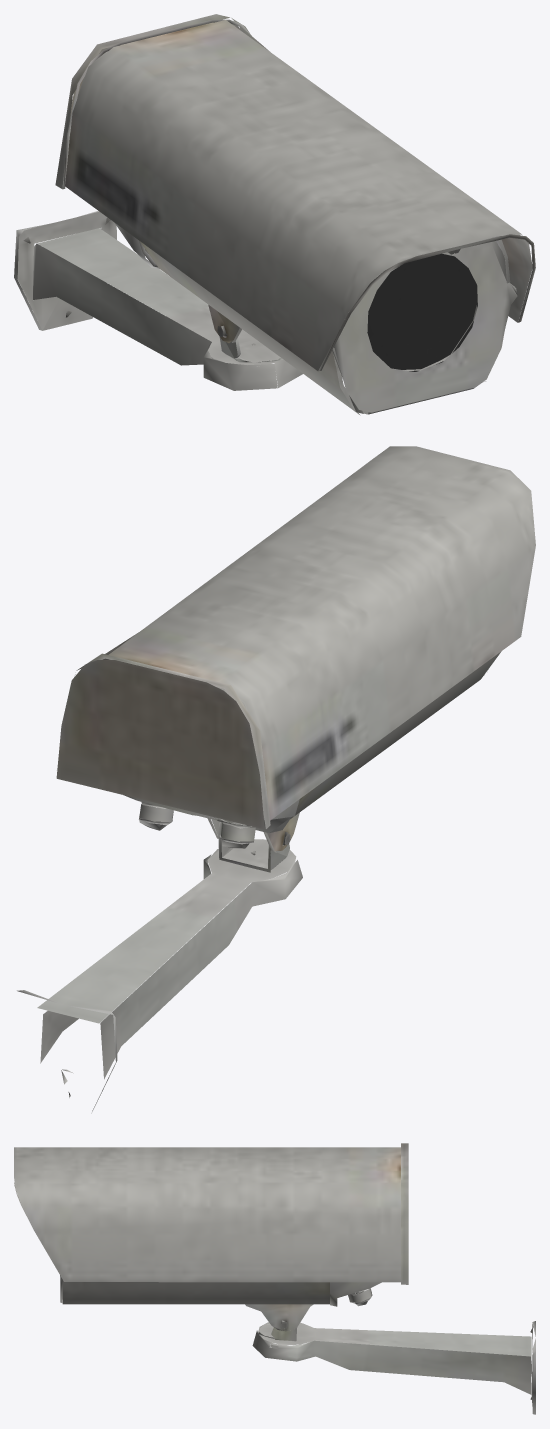
File: cctv.glb
The picture shows the model from 3 angles, top to bottom: view 1: azimuth 30°, elevation 25°; view 2: azimuth 150°, elevation 25°; view 3: azimuth 270°, elevation 25°; orthographic projection. The views are drawn at different scales.
Visible parts, largest first — view 1: cctv; view 2: cctv; view 3: cctv.
Boxes of the visible parts, x1,y1,x2,y2 form: cctv: (14, 14, 535, 415); cctv: (17, 446, 535, 1113); cctv: (14, 1143, 535, 1414).
Bounding box in the file's own units: 0.1715 × 0.2856 × 0.5536.
Materials: 2 (2 with a texture image).
